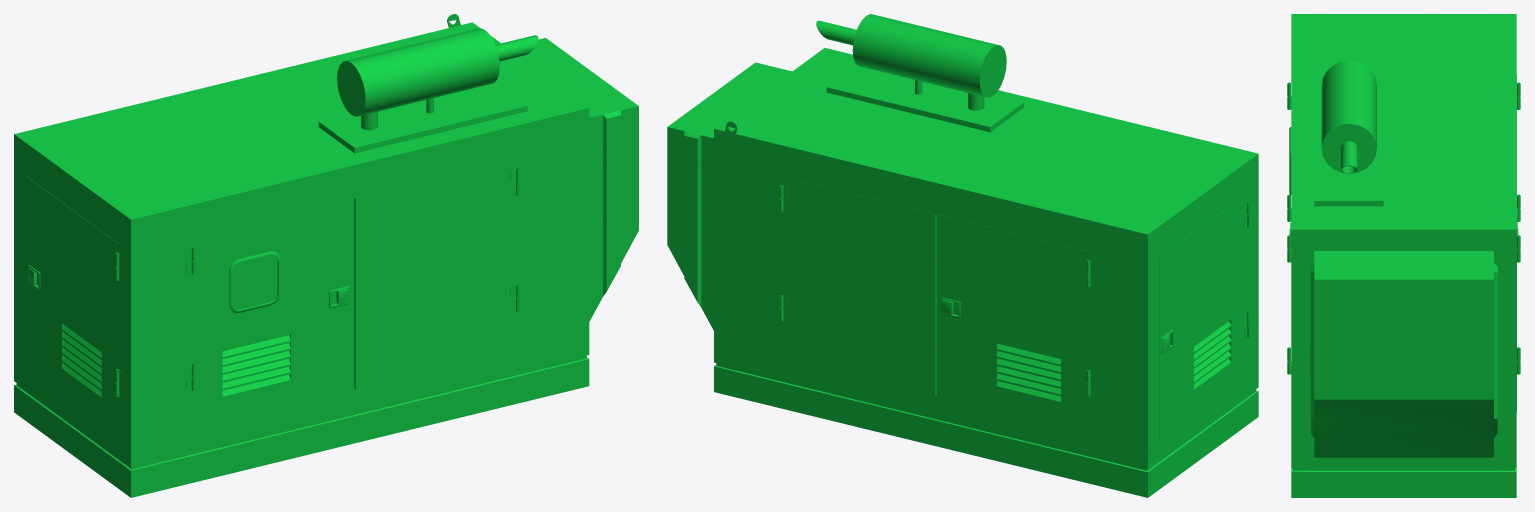
The model's file is gerador.glb.
The picture shows the model from 3 angles, left to right: view 1: azimuth 30°, elevation 25°; view 2: azimuth 150°, elevation 25°; view 3: azimuth 270°, elevation 25°; orthographic projection. The views are drawn at different scales.
Parts seen in each view (by area): view 1: mesh_id4, mesh_id5, mesh_id8, mesh_id12, mesh_id14, mesh_id6; view 2: mesh_id4, mesh_id5, mesh_id8, mesh_id12; view 3: mesh_id4, mesh_id8, mesh_id12, mesh_id5.
Part boxes in pixels (x1,y1,x2,y2): mesh_id4: (14,14,638,497); mesh_id5: (26,158,523,435); mesh_id8: (337,28,538,130); mesh_id12: (318,82,527,153); mesh_id14: (449,177,498,220); mesh_id6: (27,251,350,312); mesh_id4: (667,48,1258,497); mesh_id5: (776,177,1250,438); mesh_id8: (816,14,1006,110); mesh_id12: (826,65,1024,132); mesh_id4: (1291,14,1517,497); mesh_id8: (1321,60,1376,173); mesh_id12: (1314,119,1383,206); mesh_id5: (1287,75,1520,412).
Bounding box in the file's own units: 0.512 × 0.3292 × 0.205.
11 materials, 11 textured.
